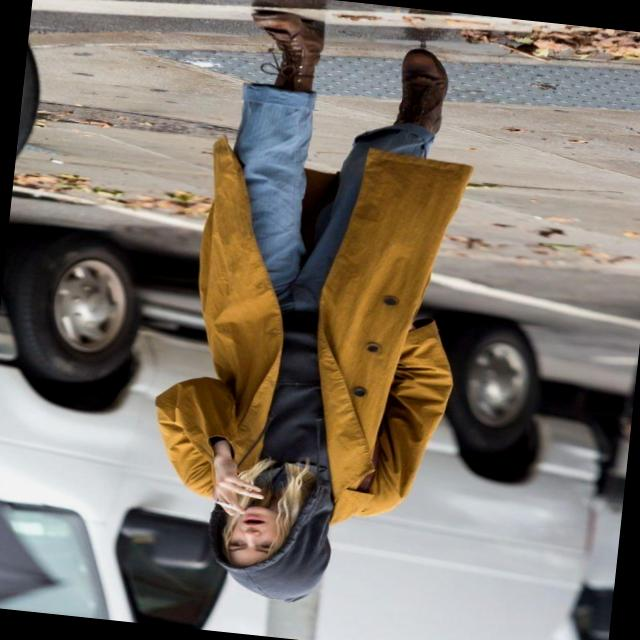smoke: (194, 484, 252, 518)
